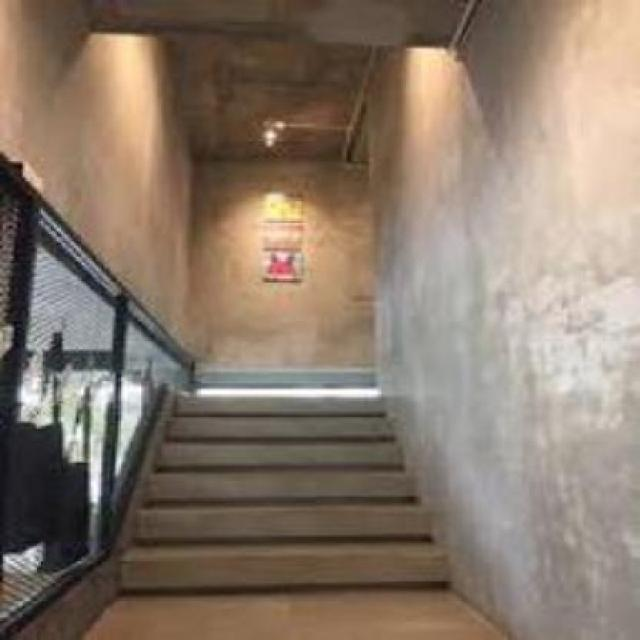stair: (111, 376, 464, 609)
